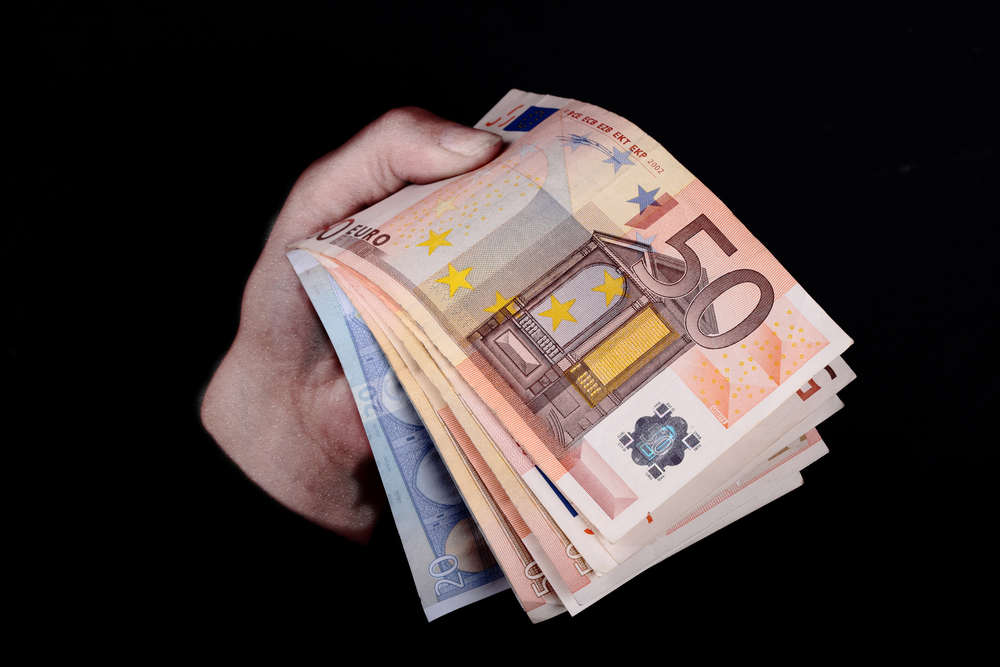billete: (284, 84, 861, 634)
